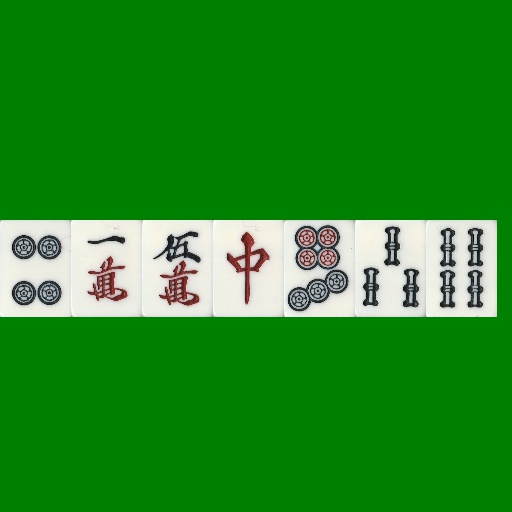1m: (71, 220, 142, 317)
3s: (355, 220, 426, 317)
4p: (0, 220, 71, 317)
4s: (426, 220, 497, 317)
5m: (142, 220, 213, 317)
7p: (284, 220, 355, 317)
tyun: (213, 220, 284, 317)
